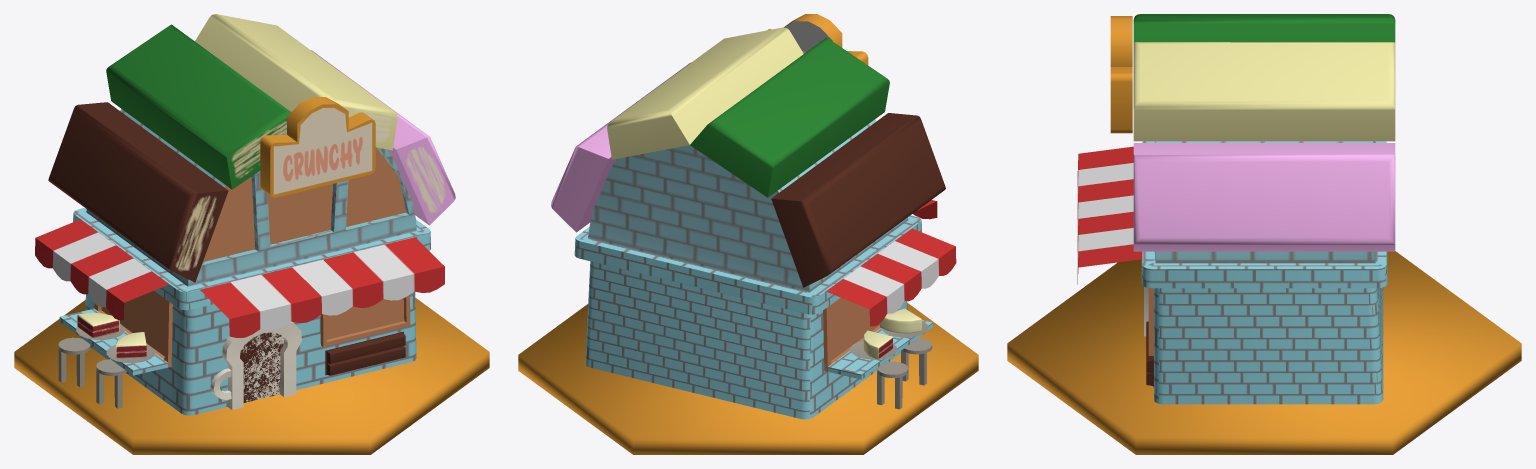
The model's file is HouseKitkat.fbx.
3 renders of one model, left to right at view 1: azimuth 30°, elevation 25°; view 2: azimuth 150°, elevation 25°; view 3: azimuth 270°, elevation 25°, orthographic. The views are drawn at different scales.
Visible parts, largest first — view 1: HouseKitKat; view 2: HouseKitKat; view 3: HouseKitKat.
Boxes of the visible parts, box(x1,y1,x2,y2) form: HouseKitKat: box(14, 14, 489, 454); HouseKitKat: box(518, 14, 978, 454); HouseKitKat: box(1007, 14, 1521, 454).
Bounding box in the file's own units: 470 × 398 × 543.
Materials: 1 (1 with a texture image).
